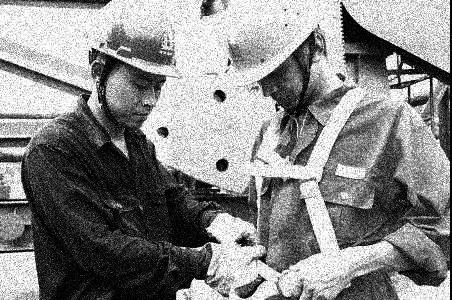helmet: (84, 5, 183, 132), (223, 2, 324, 112)
